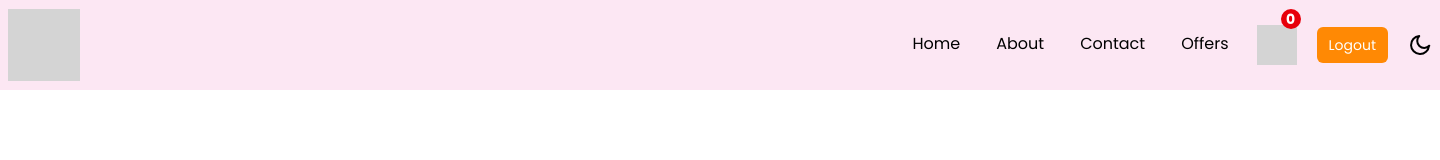
Test: Should toggle theme using on click
This screenshot has width=1440, height=160.
Click the list item with test id "toggle-list".
click(1420, 45)  # box [1408,33,1432,57]
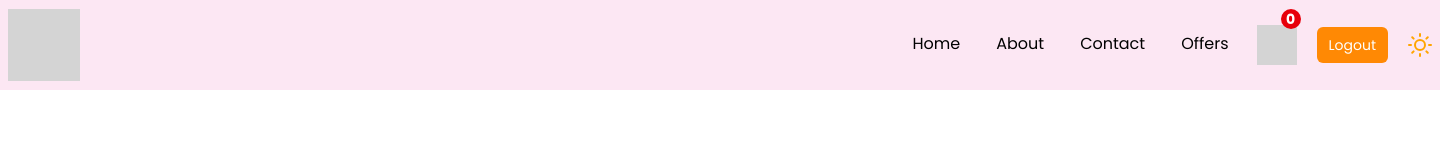
Now the icon with test id "sun-icon" is shown
Click the list item with test id "toggle-list".
click(1420, 45)  # box [1408,33,1432,57]
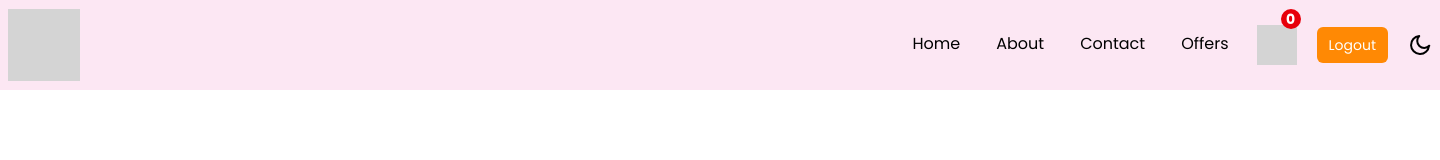
Now the icon with test id "moon-icon" is shown, box [1408,33,1432,57]
